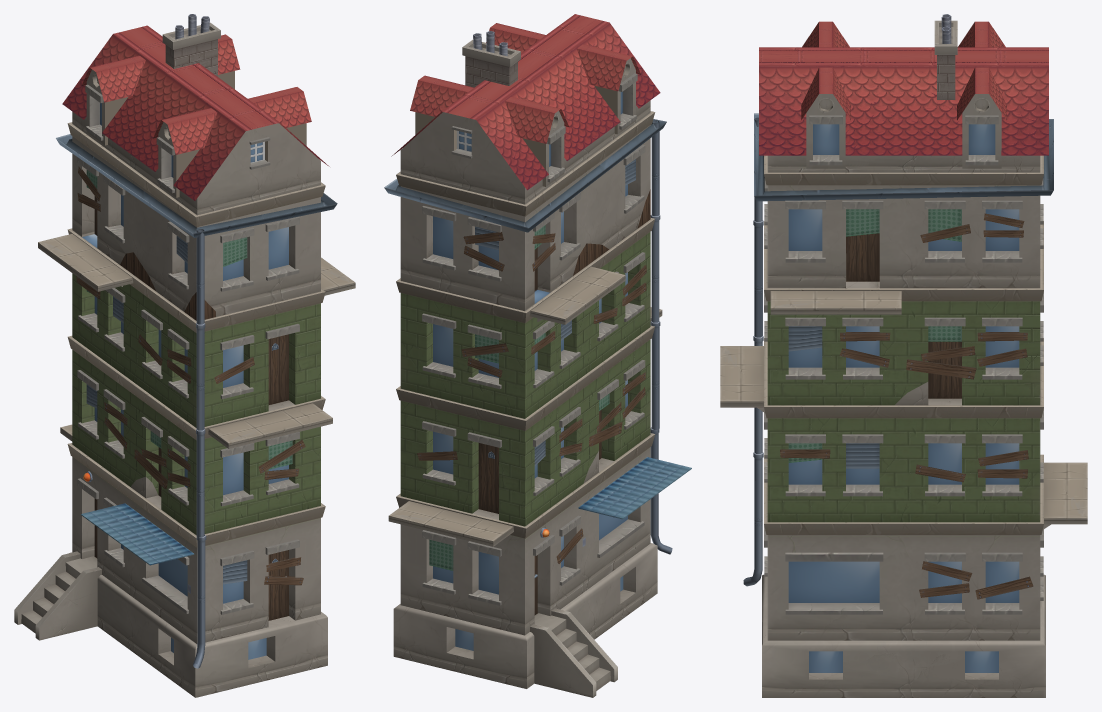
The model's file is Building_01_3_LOD2.fbx.
3 renders of one model, left to right at view 1: azimuth 30°, elevation 25°; view 2: azimuth 150°, elevation 25°; view 3: azimuth 270°, elevation 25°, orthographic. The views are drawn at different scales.
Visible parts, largest first — view 1: polySurface3654; view 2: polySurface3654; view 3: polySurface3654.
Part boxes in pixels (x1=…): polySurface3654: x1=14, y1=14, x2=355, y2=697; polySurface3654: x1=384, y1=14, x2=691, y2=697; polySurface3654: x1=720, y1=14, x2=1087, y2=697.
Bounding box in the file's own units: 719 × 1855 × 942.
